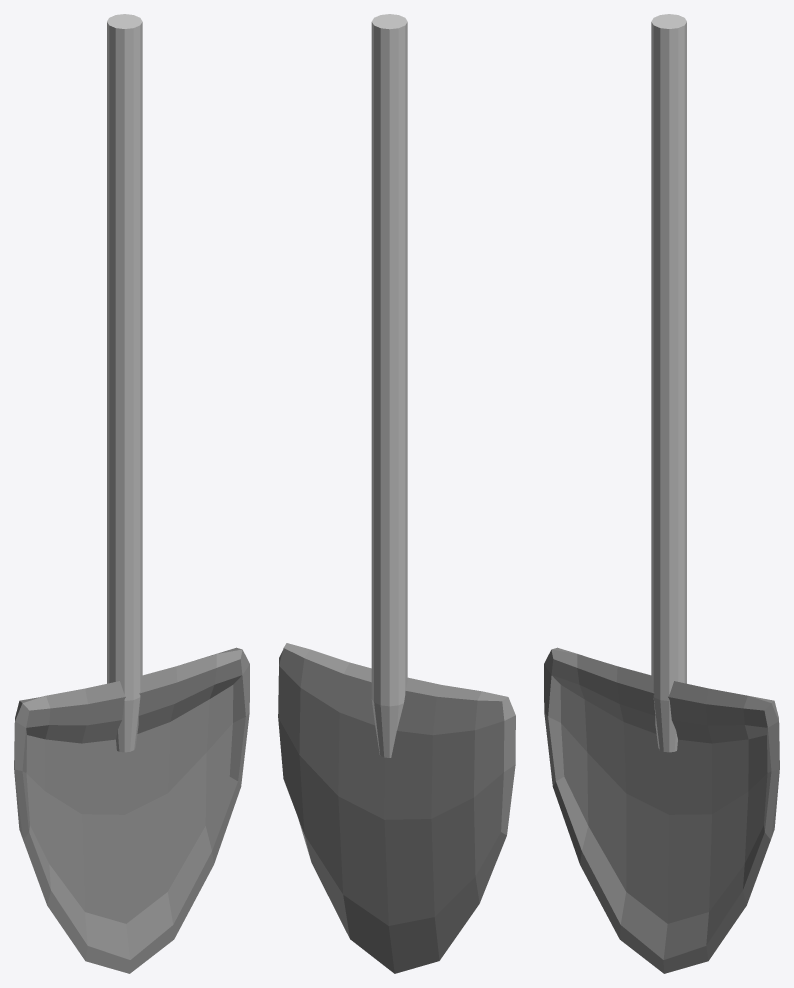
3 views of the same model, side by side, from view 1: azimuth 30°, elevation 25°; view 2: azimuth 150°, elevation 25°; view 3: azimuth 330°, elevation 25° (orthographic).
Parts seen in each view (by area): view 1: Pa; view 2: Pa; view 3: Pa.
Part boxes in pixels (x1,y1,x2,y2): Pa: (14,14,249,973); Pa: (278,14,515,973); Pa: (544,14,779,973).
Bounding box in the file's own units: 37.63 × 145 × 5.34.
Materials: 1 (1 with a texture image).
